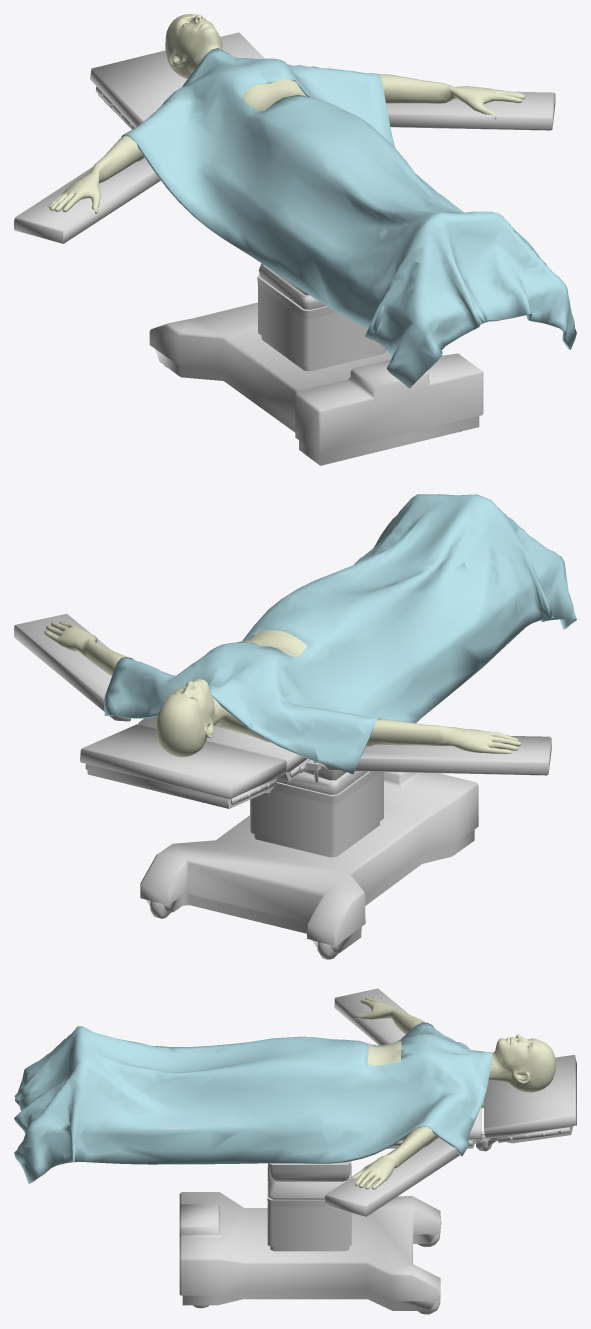
Rendered from Surgical_table 1.fbx.
3 views of the same model, one above another, from view 1: azimuth 30°, elevation 25°; view 2: azimuth 150°, elevation 25°; view 3: azimuth 270°, elevation 25° (orthographic). The views are drawn at different scales.
Parts seen in each view (by area): view 1: Cover, Surgical_bed, Patient; view 2: Cover, Surgical_bed, Patient; view 3: Cover, Surgical_bed, Patient.
Part boxes in pixels (bbox=[...]): Cover: bbox=[121, 48, 576, 388]; Surgical_bed: bbox=[14, 32, 555, 465]; Patient: bbox=[48, 14, 525, 213]; Cover: bbox=[104, 494, 576, 774]; Surgical_bed: bbox=[14, 613, 551, 959]; Patient: bbox=[44, 622, 521, 757]; Cover: bbox=[14, 1022, 492, 1183]; Surgical_bed: bbox=[156, 988, 576, 1314]; Patient: bbox=[351, 997, 555, 1189].
Size of the model in its own units: 193 by 101 by 210.
